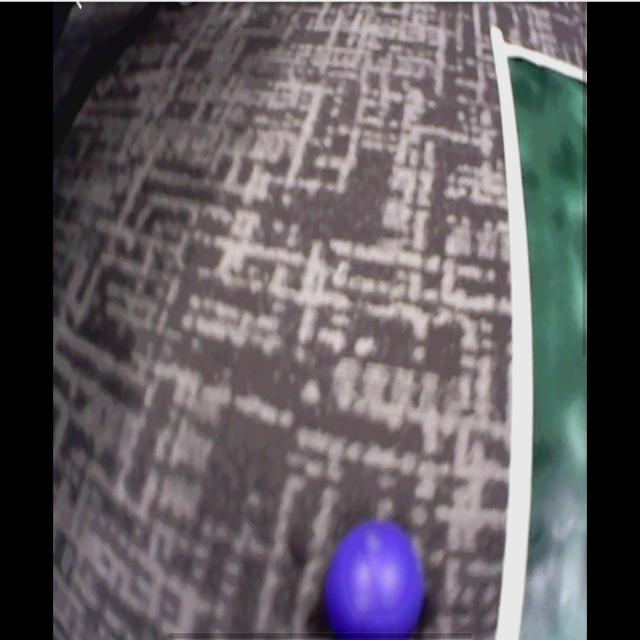ball: (329, 524, 425, 633)
